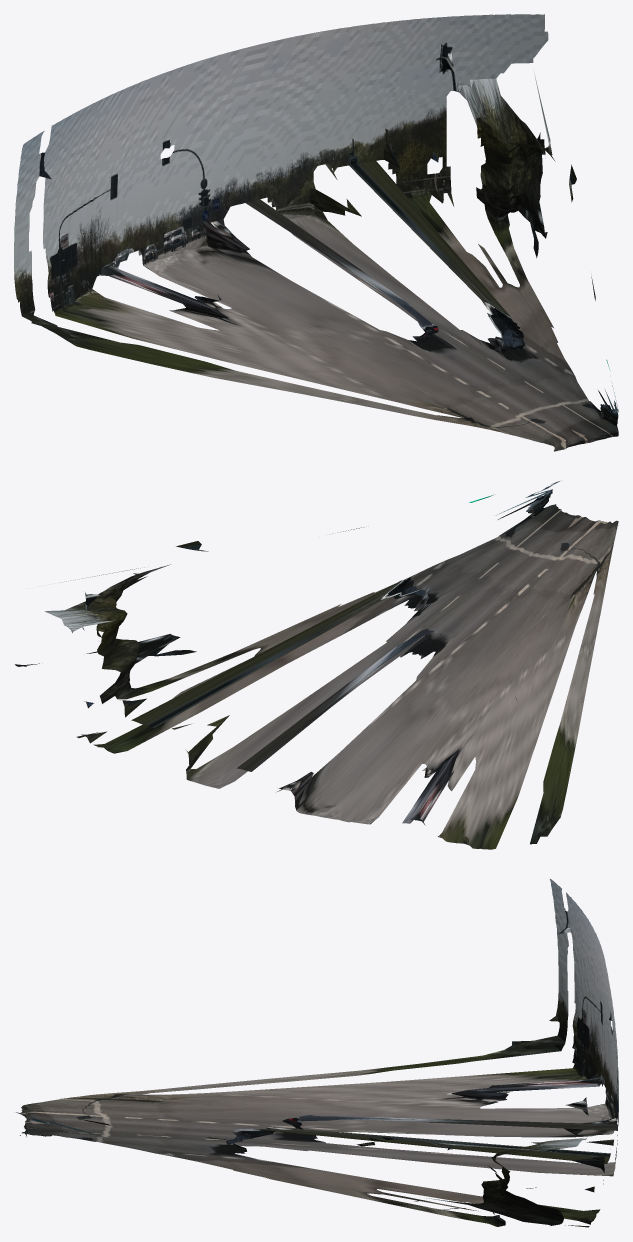
3 views of the same model, one above another, from view 1: azimuth 30°, elevation 25°; view 2: azimuth 150°, elevation 25°; view 3: azimuth 270°, elevation 25° (orthographic). The views are drawn at different scales.
Visible parts, largest first — view 1: defaultobject; view 2: defaultobject; view 3: defaultobject.
Part boxes in pixels (box(x1,y1,x2,y2)): defaultobject: box(14, 14, 618, 451); defaultobject: box(15, 481, 618, 849); defaultobject: box(16, 879, 618, 1227).
Size of the model in its own units: 40.56 by 14.82 by 44.92.
1 material, 1 textured.
